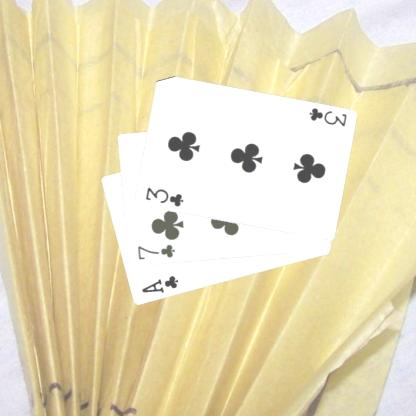3C: (142, 184, 185, 208), (305, 105, 348, 128)
7C: (135, 242, 176, 262)
AC: (139, 273, 179, 295)
